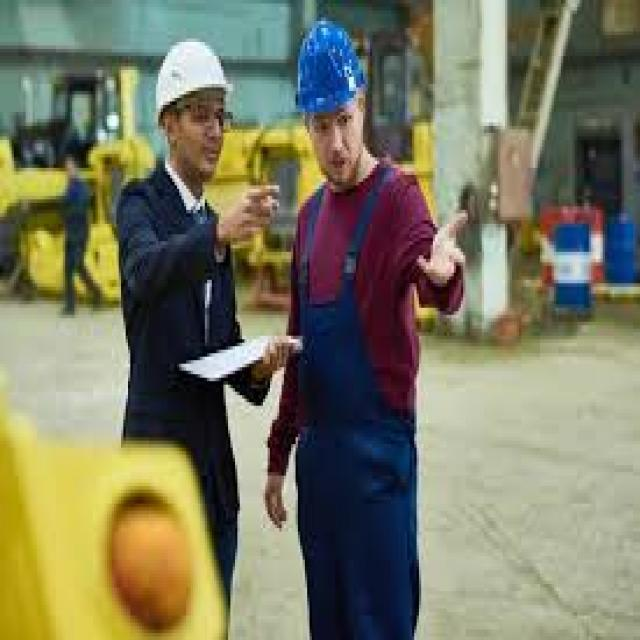safety_helmet: (282, 14, 378, 129), (146, 28, 240, 126)
